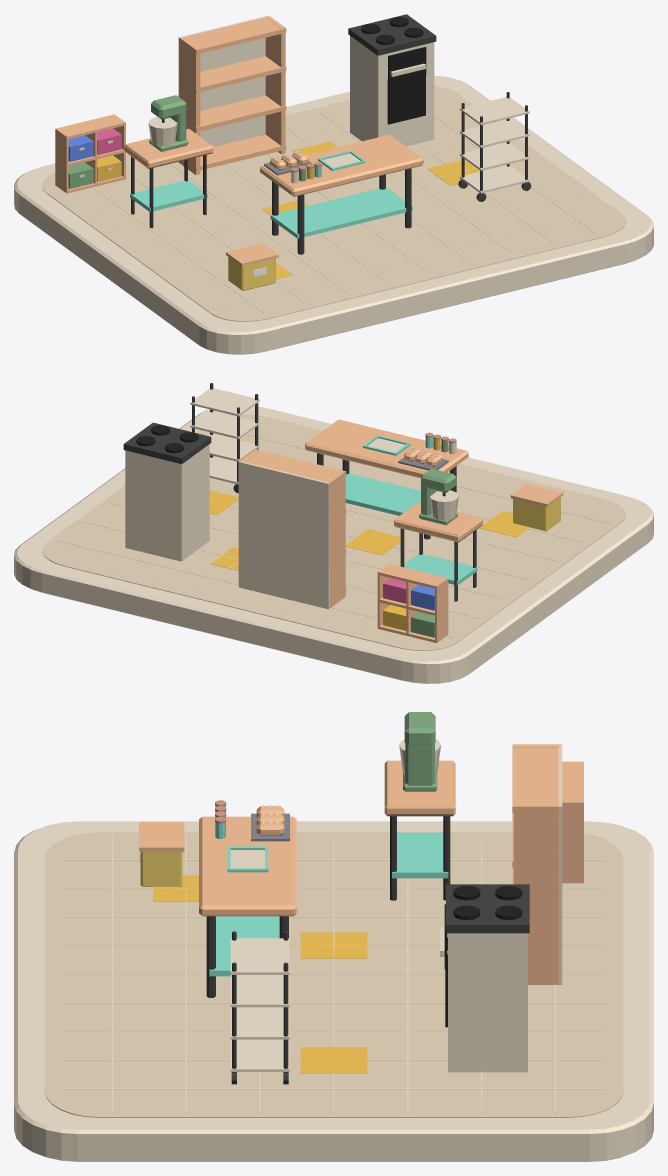
The model's file is room.fbx.
The picture shows the model from 3 angles, top to bottom: view 1: azimuth 30°, elevation 25°; view 2: azimuth 150°, elevation 25°; view 3: azimuth 270°, elevation 25°; orthographic projection. The views are drawn at different scales.
Visible parts, largest first — view 1: COM-02 Floor Surface, COM-01 Rounded Base Direct, Stove, Back, Worktop, Lower shelf, Side.001, Side, Shelf.003, Hob, Worktop.001, Shelf.001 (+21 smaller); view 2: COM-02 Floor Surface, COM-01 Rounded Base Direct, Back, Stove, Worktop, Lower shelf, Side, Hob, Worktop.001, Shelf.003, Box, Lower shelf.001 (+16 smaller); view 3: COM-02 Floor Surface, COM-01 Rounded Base Direct, Stove, Worktop, Side.001, Worktop.001, Hob, Shelf.003, Lower shelf.001, Rack shelf.003, Lower shelf, Geometric color tile.001 (+20 smaller).
Boxes of the visible parts, x1=… form: COM-02 Floor Surface: x1=42, y1=86, x2=625, y2=321; COM-01 Rounded Base Direct: x1=14, y1=75, x2=653, y2=354; Stove: x1=350, y1=36, x2=434, y2=146; Back: x1=178, y1=15, x2=269, y2=163; Worktop: x1=260, y1=134, x2=423, y2=196; Lower shelf: x1=270, y1=187, x2=412, y2=238; Side.001: x1=265, y1=16, x2=285, y2=154; Side: x1=179, y1=37, x2=200, y2=174; Shelf.003: x1=185, y1=17, x2=286, y2=54; Hob: x1=348, y1=14, x2=436, y2=55; Worktop.001: x1=124, y1=129, x2=213, y2=168; Shelf.001: x1=186, y1=95, x2=286, y2=131; COM-02 Floor Surface: x1=42, y1=414, x2=625, y2=650; COM-01 Rounded Base Direct: x1=14, y1=405, x2=653, y2=683; Back: x1=238, y1=461, x2=329, y2=609; Stove: x1=125, y1=444, x2=209, y2=561; Worktop: x1=305, y1=419, x2=468, y2=478; Lower shelf: x1=345, y1=473, x2=420, y2=515; Side: x1=326, y1=470, x2=345, y2=607; Hob: x1=123, y1=422, x2=211, y2=463; Worktop.001: x1=394, y1=502, x2=482, y2=542; Shelf.003: x1=245, y1=449, x2=346, y2=487; Box: x1=513, y1=497, x2=560, y2=531; Lower shelf.001: x1=404, y1=554, x2=477, y2=585; COM-02 Floor Surface: x1=44, y1=832, x2=623, y2=1117; COM-01 Rounded Base Direct: x1=14, y1=821, x2=653, y2=1161; Stove: x1=448, y1=933, x2=527, y2=1072; Worktop: x1=199, y1=816, x2=296, y2=916; Side.001: x1=513, y1=803, x2=560, y2=984; Worktop.001: x1=384, y1=760, x2=455, y2=816; Hob: x1=446, y1=884, x2=529, y2=933; Shelf.003: x1=512, y1=744, x2=561, y2=812; Lower shelf.001: x1=392, y1=832, x2=448, y2=878; Rack shelf.003: x1=230, y1=938, x2=289, y2=974; Lower shelf: x1=209, y1=916, x2=279, y2=976; Geometric color tile.001: x1=300, y1=932, x2=367, y2=958.
Size of the model in its own units: 600 by 190 by 520.
